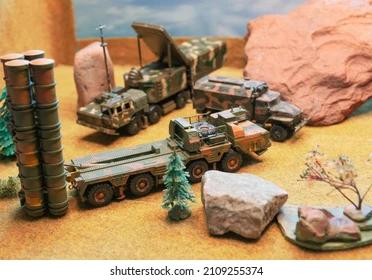MIL_SAM_TEL: (0, 48, 273, 215)
